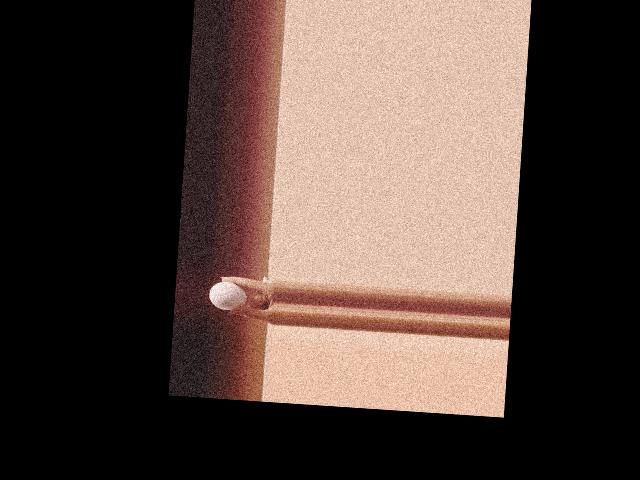egg: (208, 281, 248, 312)
